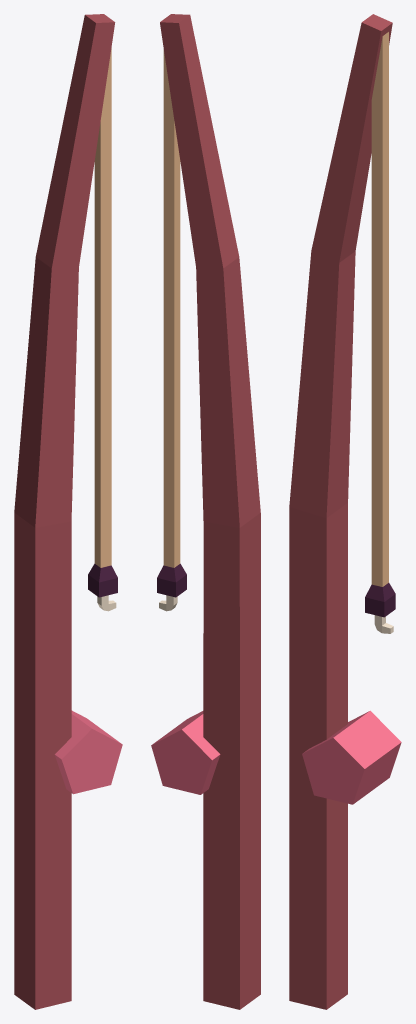
The model's file is fishingpole.glb.
The picture shows the model from 3 angles, left to right: view 1: azimuth 30°, elevation 25°; view 2: azimuth 150°, elevation 25°; view 3: azimuth 330°, elevation 25°; orthographic projection. The views are drawn at different scales.
Parts seen in each view (by area): view 1: Pole, Line, Reel; view 2: Pole, Line, Reel; view 3: Pole, Line, Reel.
Boxes of the visible parts, bbox=[...] form: Pole: bbox=[14, 14, 115, 1009]; Line: bbox=[88, 48, 117, 611]; Reel: bbox=[54, 710, 122, 794]; Pole: bbox=[160, 14, 260, 1009]; Line: bbox=[157, 49, 186, 611]; Reel: bbox=[151, 711, 220, 794]; Pole: bbox=[289, 14, 392, 1009]; Line: bbox=[365, 32, 395, 633]; Reel: bbox=[302, 710, 401, 804].
Size of the model in its own units: 0.3916 by 4.02 by 0.2721.
1 material, 1 textured.
